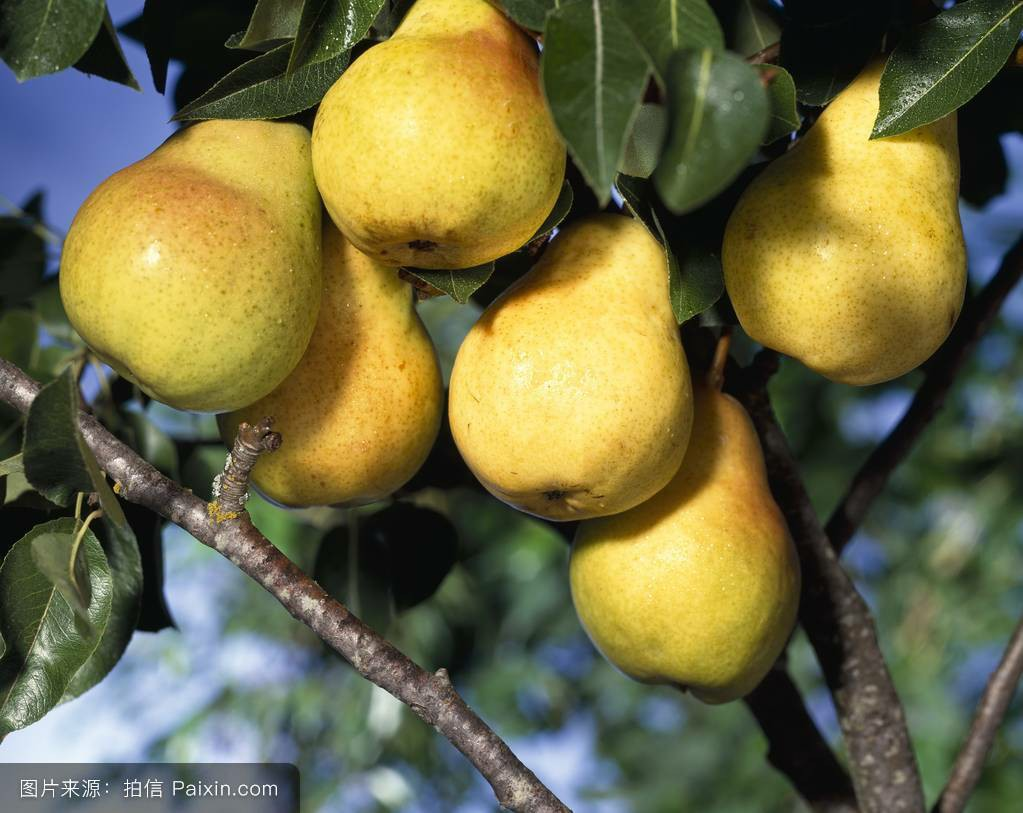pear: (721, 26, 968, 382), (59, 106, 329, 418), (448, 193, 696, 522), (567, 378, 794, 706), (215, 204, 440, 507), (312, 1, 562, 268)
